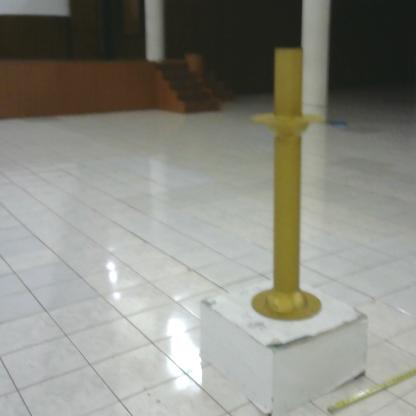pole: (243, 41, 338, 328)
